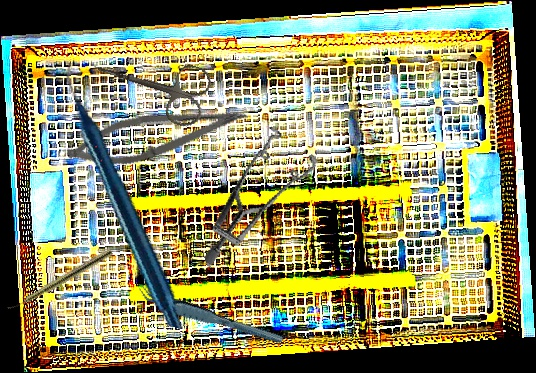Handpiece: (15, 62, 236, 330), (6, 247, 114, 314)
Iris Scissors: (84, 36, 215, 131)
Micro Scissor: (61, 85, 254, 181)
Speculum: (170, 115, 339, 269)
Tissue Forceps: (135, 272, 285, 360)
